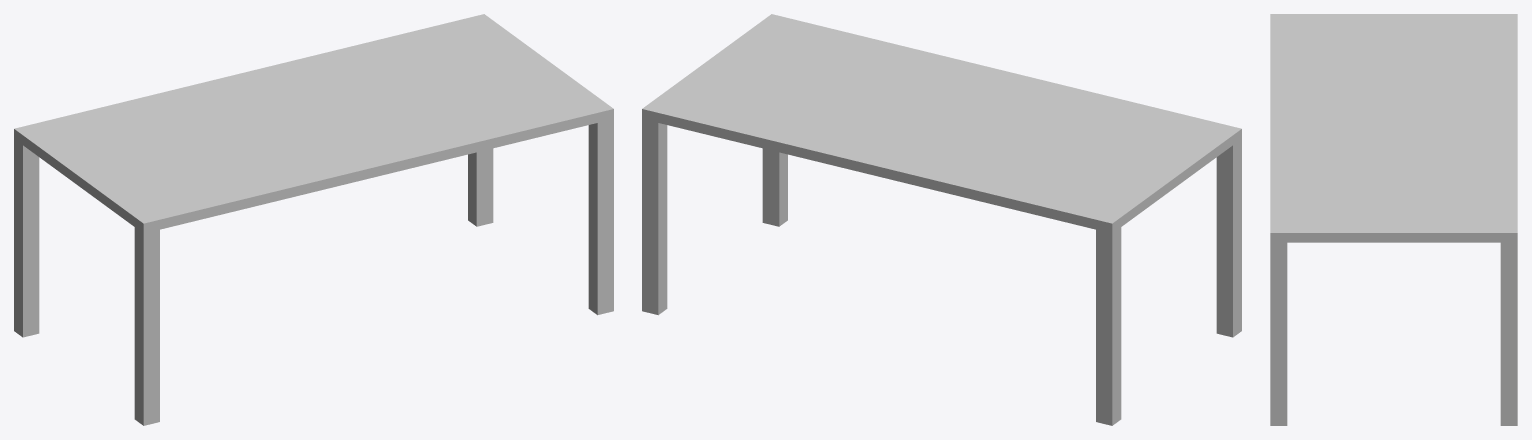
File: table.dae
3 views of the same model, side by side, from view 1: azimuth 30°, elevation 25°; view 2: azimuth 150°, elevation 25°; view 3: azimuth 270°, elevation 25° (orthographic). The views are drawn at different scales.
Visible parts, largest first — view 1: Cube; view 2: Cube; view 3: Cube.
Boxes of the visible parts, x1,y1,x2,y2 form: Cube: [14, 14, 613, 425]; Cube: [642, 14, 1241, 425]; Cube: [1270, 14, 1517, 425].
Bounding box in the file's own units: 7.91 × 3.78 × 3.25.
